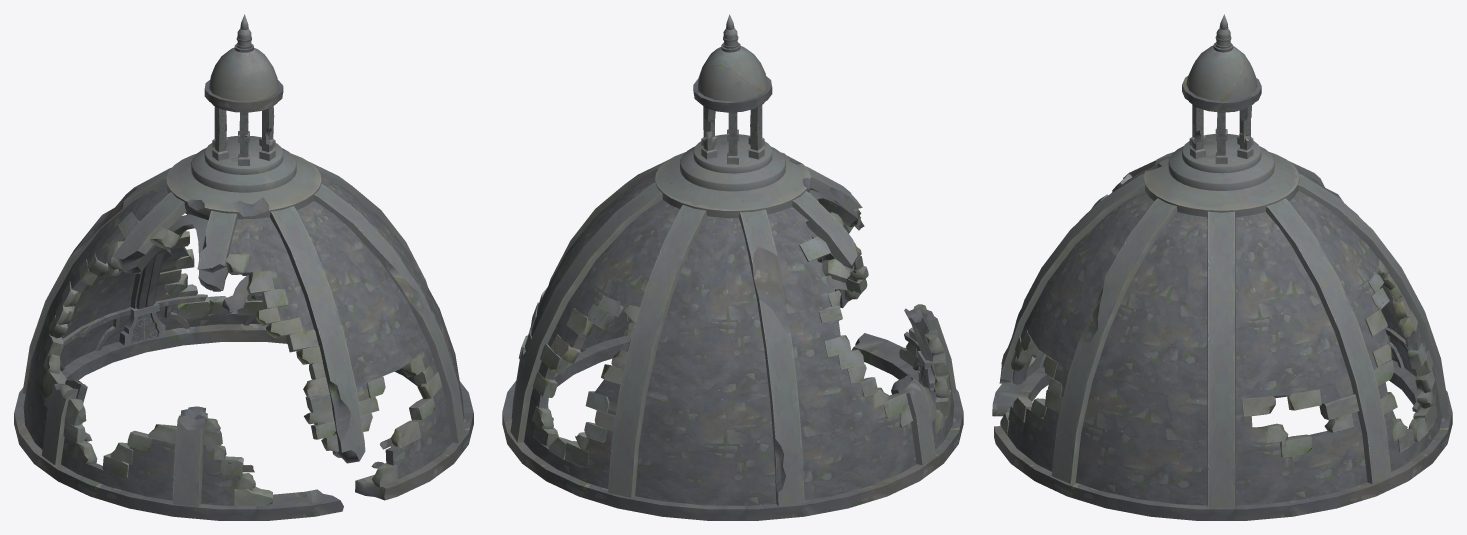
File: Area_MdBuild_SdRoof01_Lod0.fbx
3 renders of one model, left to right at view 1: azimuth 30°, elevation 25°; view 2: azimuth 150°, elevation 25°; view 3: azimuth 270°, elevation 25°, orthographic.
Parts seen in each view (by area): view 1: Area_MdBuild_SdRoof01_Lod0; view 2: Area_MdBuild_SdRoof01_Lod0; view 3: Area_MdBuild_SdRoof01_Lod0.
Part boxes in pixels (left/top/right/bottom): Area_MdBuild_SdRoof01_Lod0: left=14, top=14, right=473, bottom=520; Area_MdBuild_SdRoof01_Lod0: left=502, top=14, right=963, bottom=520; Area_MdBuild_SdRoof01_Lod0: left=992, top=14, right=1452, bottom=520.
Bounding box in the file's own units: 37.95 × 37.45 × 38.02.
Materials: 3 (3 with a texture image).
